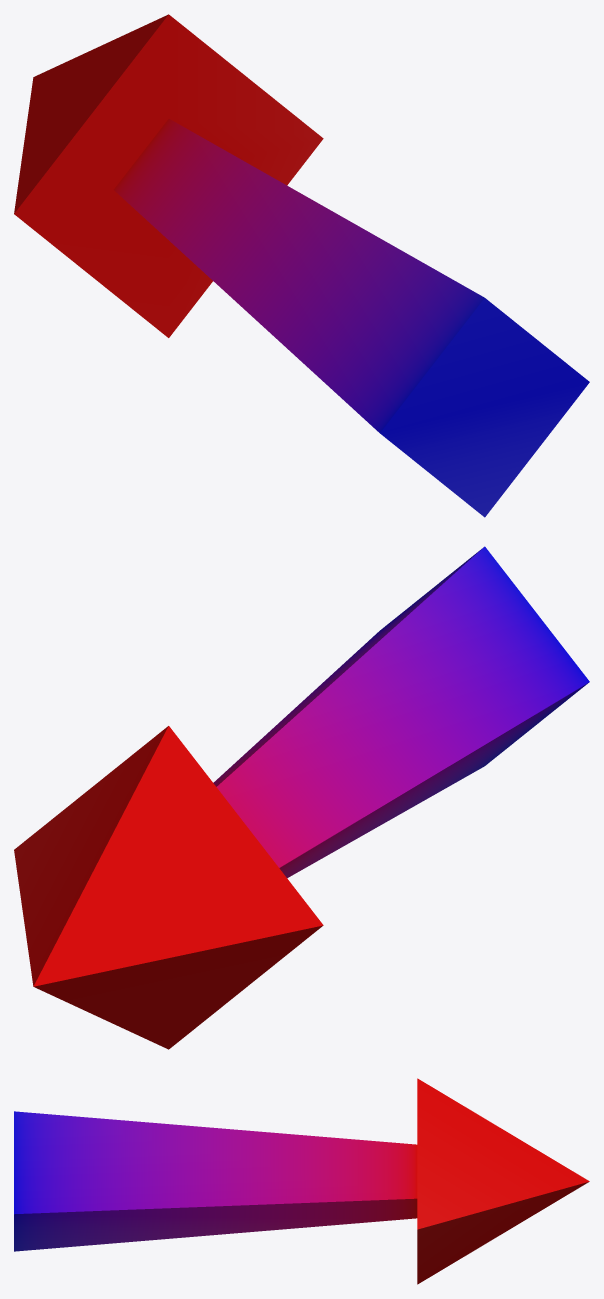
File: debug_arrows.glb
The picture shows the model from 3 angles, top to bottom: view 1: azimuth 30°, elevation 25°; view 2: azimuth 150°, elevation 25°; view 3: azimuth 270°, elevation 25°; orthographic projection. The views are drawn at different scales.
Parts seen in each view (by area): view 1: Cube; view 2: Cube; view 3: Cube.
Boxes of the visible parts, bbox=[...] form: Cube: bbox=[14, 14, 589, 517]; Cube: bbox=[14, 546, 589, 1049]; Cube: bbox=[14, 1078, 589, 1284].
Size of the model in its own units: 0.396 by 0.396 by 1.
